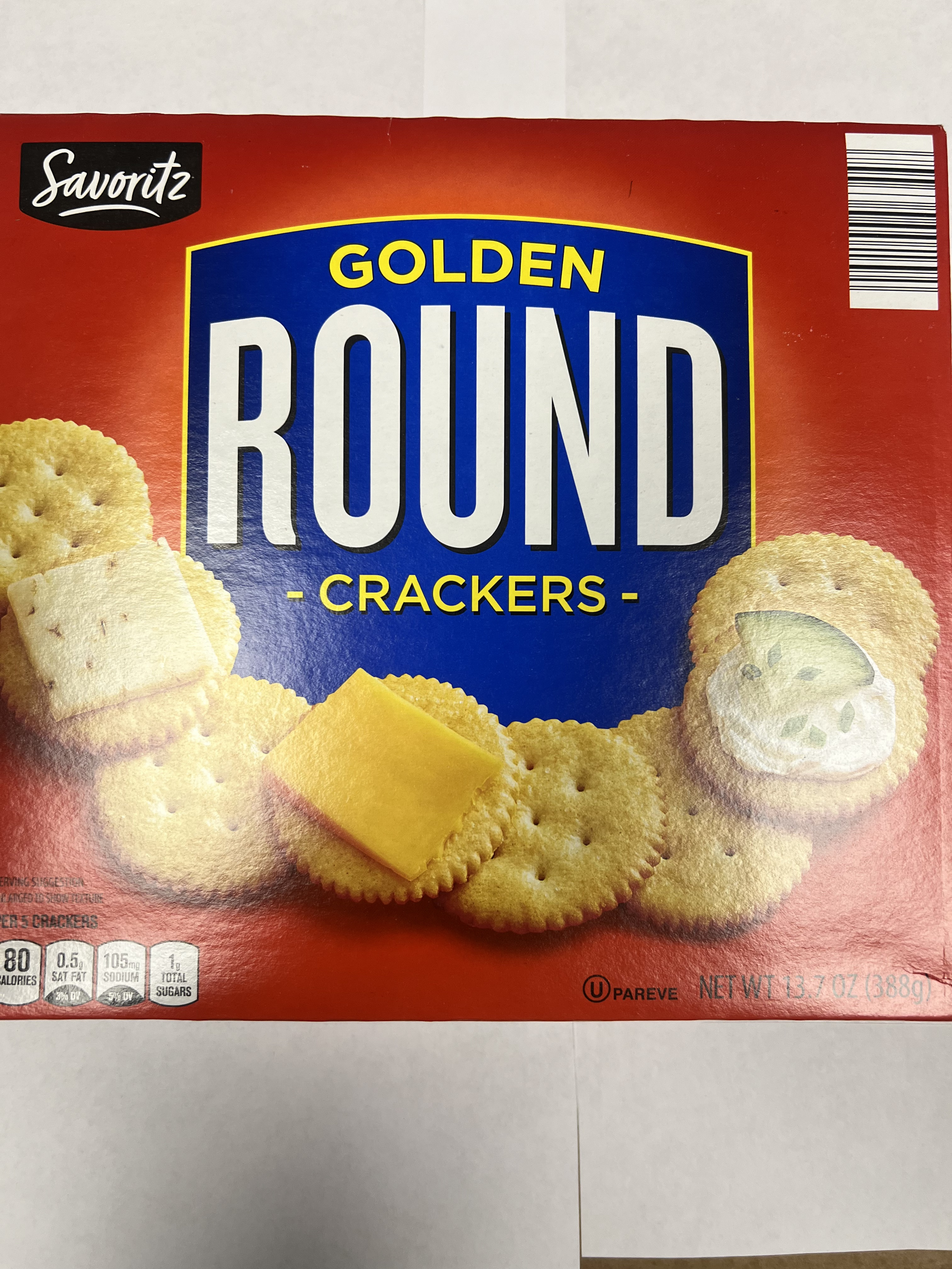packaged: (0, 110, 952, 1030)
